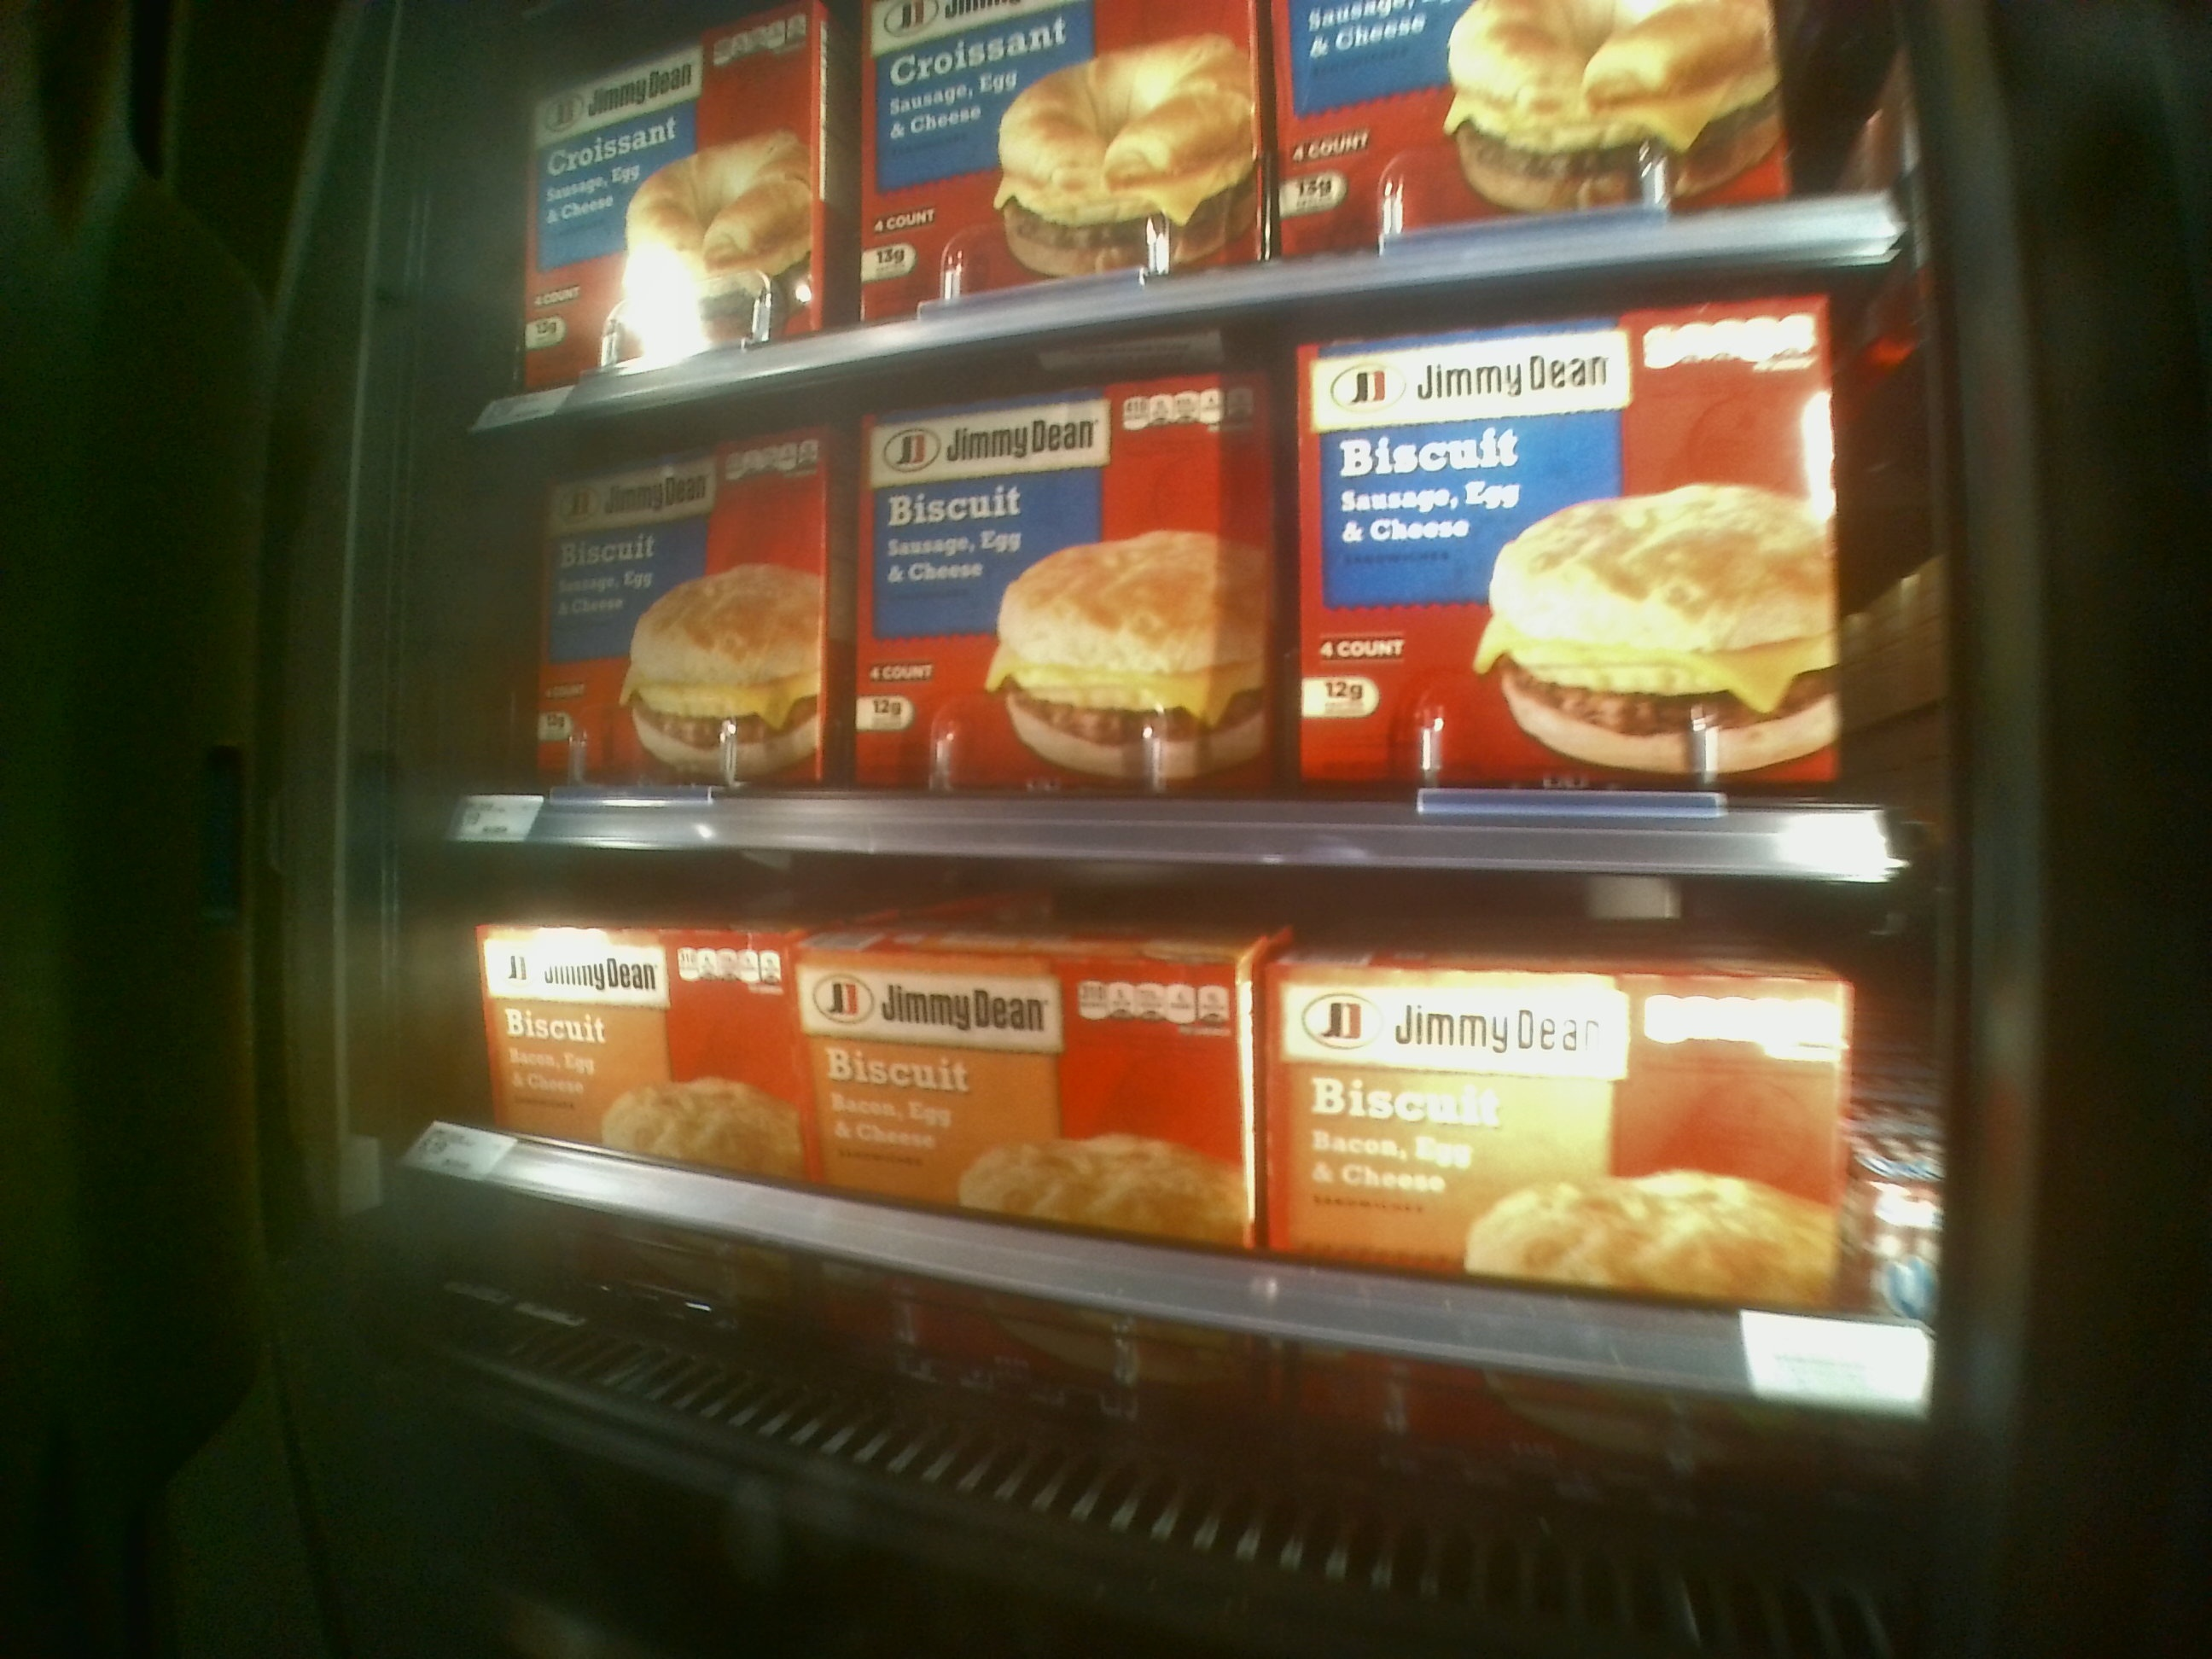shelf: (446, 842, 1930, 1493), (462, 237, 1930, 887)
